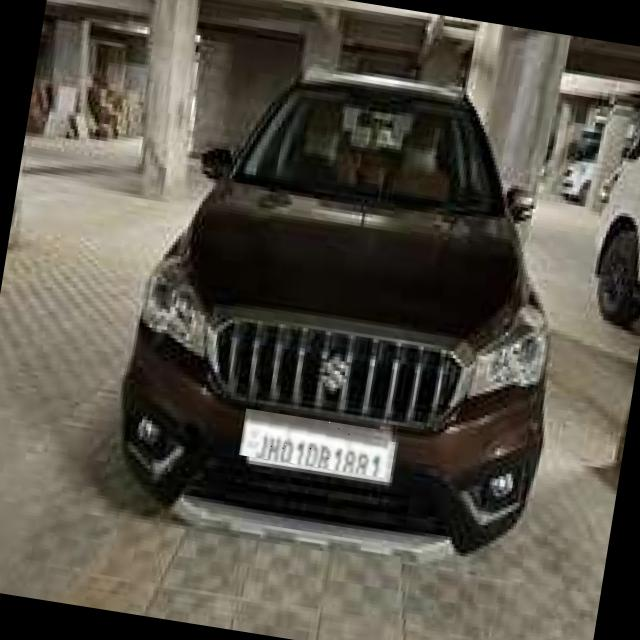Plate: (240, 410, 396, 480)
